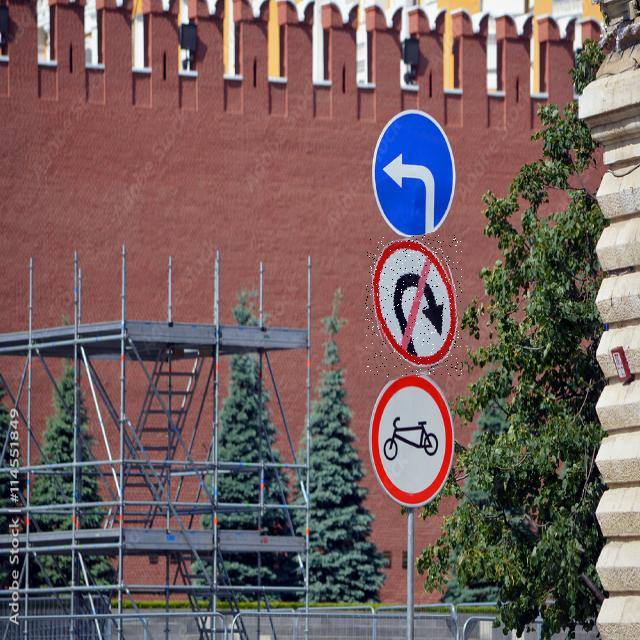no u turn: (365, 235, 462, 377)
